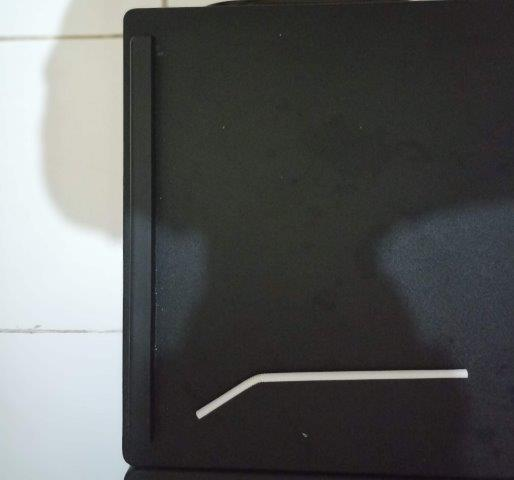sedotan: (196, 368, 468, 420)
